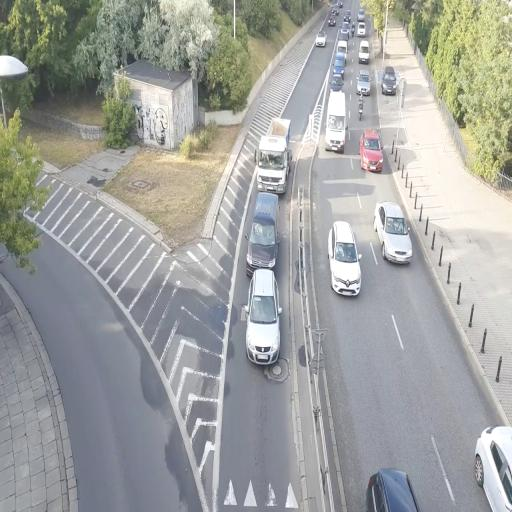vehicle: (244, 269, 281, 366), (474, 423, 512, 510), (255, 116, 291, 198), (246, 190, 278, 274), (328, 220, 362, 298), (373, 200, 413, 266), (364, 468, 420, 512), (326, 89, 347, 153), (360, 128, 384, 174), (381, 67, 399, 95), (356, 69, 372, 95), (314, 30, 328, 48)
